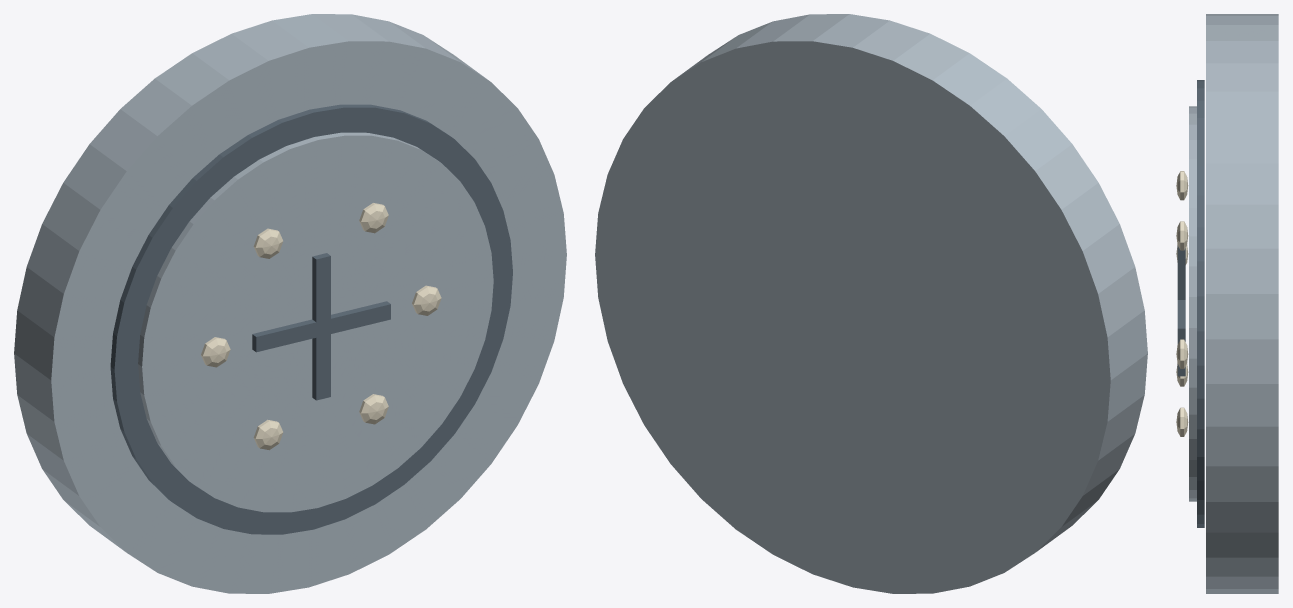
The model's file is shivrai-rupaya.glb.
3 renders of one model, left to right at view 1: azimuth 30°, elevation 25°; view 2: azimuth 150°, elevation 25°; view 3: azimuth 270°, elevation 25°, orthographic. The views are drawn at different scales.
Parts seen in each view (by area): view 1: Shivrai Rupaya; view 2: Shivrai Rupaya; view 3: Shivrai Rupaya.
Boxes of the visible parts, <box> form: Shivrai Rupaya: <box>14,14,566,593</box>; Shivrai Rupaya: <box>595,14,1147,593</box>; Shivrai Rupaya: <box>1176,14,1278,593</box>.
Size of the model in its own units: 0.88 by 0.88 by 0.155.
